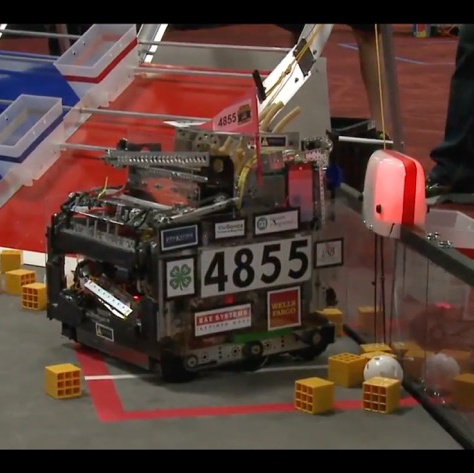robot: (34, 99, 342, 381)
